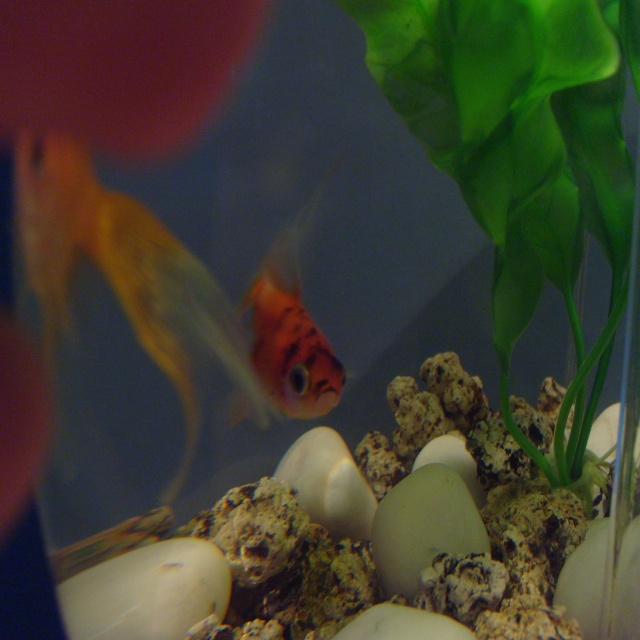Goldfish: (226, 241, 354, 434)
